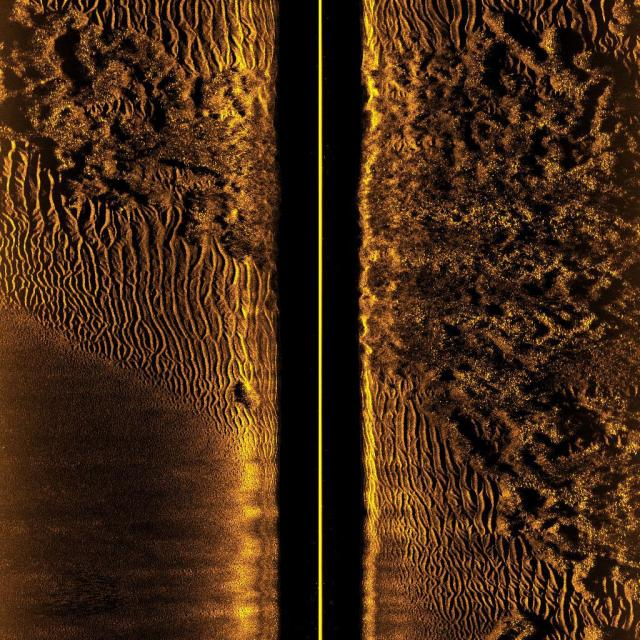other: (240, 374, 259, 414)
